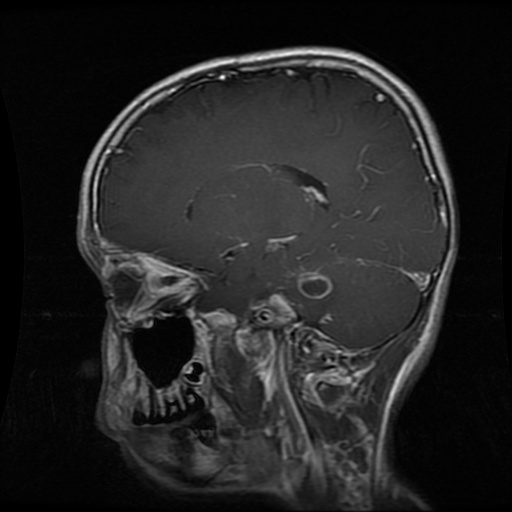glioma: (298, 270, 334, 299)
